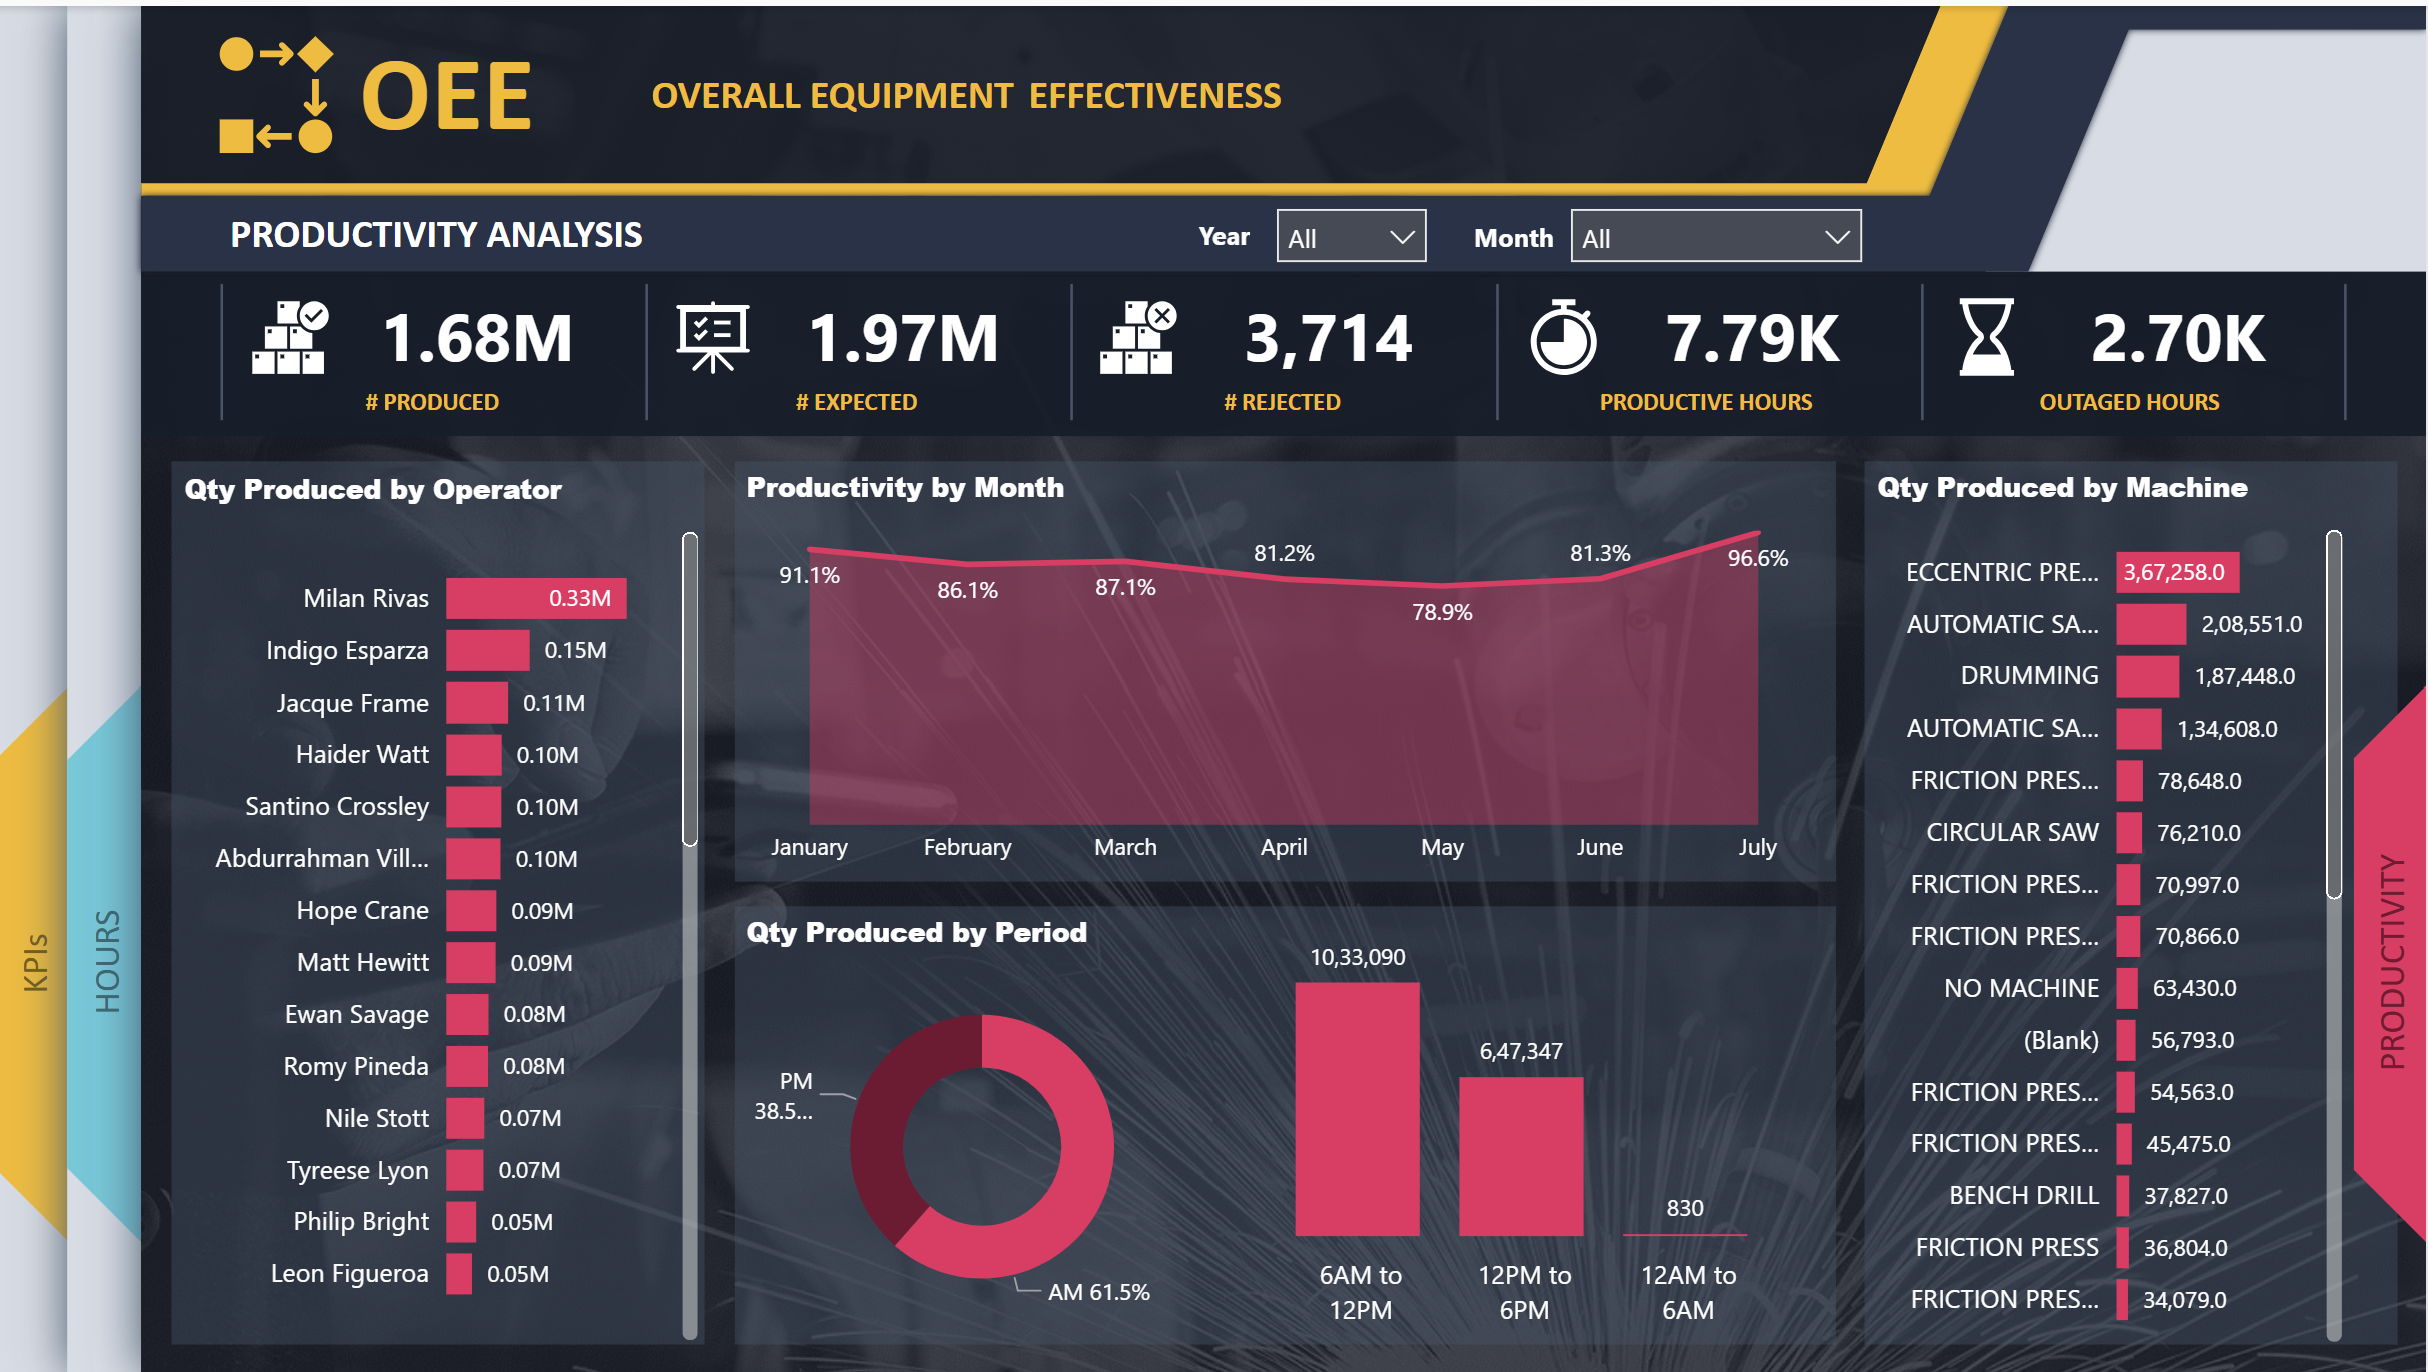

What the dashboard file says about the page in this screenshot:
{"tool":"powerbi","page":{"name":"Productivity","canvas":[1280,720],"ordinal":2},"visuals":[{"type":"slicer","fields":{"Values":["dDates.Date.Variation.Date Hierarchy.Year"]},"box":[664.5,97.2,99.1,46.8],"z":0,"group":"g2"},{"type":"card","fields":{"Values":["_Measures.Qty Produced"]},"box":[173.1,143.1,160.2,60.6],"z":0,"group":"g1"},{"type":"actionButton","box":[38.5,396.4,37.2,217.5],"z":0},{"type":"slicer","fields":{"Values":["dDates.Date.Variation.Date Hierarchy.Month"]},"box":[820.1,97.2,173.4,46.8],"z":1000,"group":"g2"},{"type":"card","fields":{"Values":["_Measures.Qty Planned"]},"box":[397.5,143.1,160.2,60.6],"z":1000,"group":"g1"},{"type":"actionButton","box":[0,396.4,37.2,217.5],"z":1000},{"type":"textbox","box":[763.6,108.2,61.9,28.9],"z":2000,"group":"g2"},{"type":"card","fields":{"Values":["_Measures.Productive Hours"]},"box":[844.8,143.1,160.2,60.6],"z":2000,"group":"g1"},{"type":"clusteredBarChart","fields":{"Category":["dOperator.Operator"],"Y":["_Measures.Qty Produced"]},"box":[93.6,244.8,280.5,463.2],"z":2000},{"type":"textbox","box":[602.4,107.2,63.2,30.2],"z":3000,"group":"g2"},{"type":"group","id":"g1","title":"Cards Header","box":[173.1,143.1,1056.3,60.6],"z":3000},{"type":"card","fields":{"Values":["_Measures.Outage Hours"]},"box":[1069.2,143.1,160.2,60.6],"z":3000,"group":"g1"},{"type":"card","fields":{"Values":["_Measures.Qty Rejected"]},"box":[621.9,143.1,158.7,60.6],"z":4000,"group":"g1"},{"type":"areaChart","fields":{"Y":["_Measures.Productivity"],"Category":["dDates.Date.Variation.Date Hierarchy.Month","dDates.Date.Variation.Date Hierarchy.Day"]},"box":[389.6,243.5,576.1,217.5],"z":5000},{"type":"clusteredBarChart","fields":{"Y":["_Measures.Qty Produced"],"Category":["dMachine.Machine"]},"box":[985.2,243.5,254.8,465.1],"z":6000},{"type":"donutChart","fields":{"Category":["dTime.AMPM"],"Y":["_Measures.Qty Produced"]},"box":[389.6,477.9,258.3,226.4],"z":7000},{"type":"clusteredColumnChart","fields":{"Category":["dTime.Period","dTime.Hour AMPM"],"Y":["_Measures.Qty Produced"]},"box":[631,476.1,333.8,226.4],"z":8000},{"type":"group","id":"g2","title":"Filters","box":[602.4,97.2,391.1,46.8],"z":9000}]}

Visuals, with their boxes in screenshot pixels (x1, y1, x2, y2), scaled from the page's 1280x720 canvas onto the 2428x1372 screenshot:
slicer - dDates.Date.Variation.Date Hierarchy.Year: 1260,185,1448,274
card - _Measures.Qty Produced: 328,273,632,388
actionButton: 73,755,144,1170
slicer - dDates.Date.Variation.Date Hierarchy.Month: 1556,185,1885,274
card - _Measures.Qty Planned: 754,273,1058,388
actionButton: 0,755,71,1170
textbox: 1448,206,1566,261
card - _Measures.Productive Hours: 1602,273,1906,388
clusteredBarChart - dOperator.Operator x _Measures.Qty Produced: 178,466,710,1349
textbox: 1143,204,1263,262
"Cards Header" group: 328,273,2332,388
card - _Measures.Outage Hours: 2028,273,2332,388
card - _Measures.Qty Rejected: 1180,273,1481,388
areaChart - _Measures.Productivity x dDates.Date.Variation.Date Hierarchy.Month: 739,464,1832,878
clusteredBarChart - _Measures.Qty Produced x dMachine.Machine: 1869,464,2352,1350
donutChart - dTime.AMPM x _Measures.Qty Produced: 739,911,1229,1342
clusteredColumnChart - dTime.Period x dTime.Hour AMPM: 1197,907,1830,1339
"Filters" group: 1143,185,1885,274
